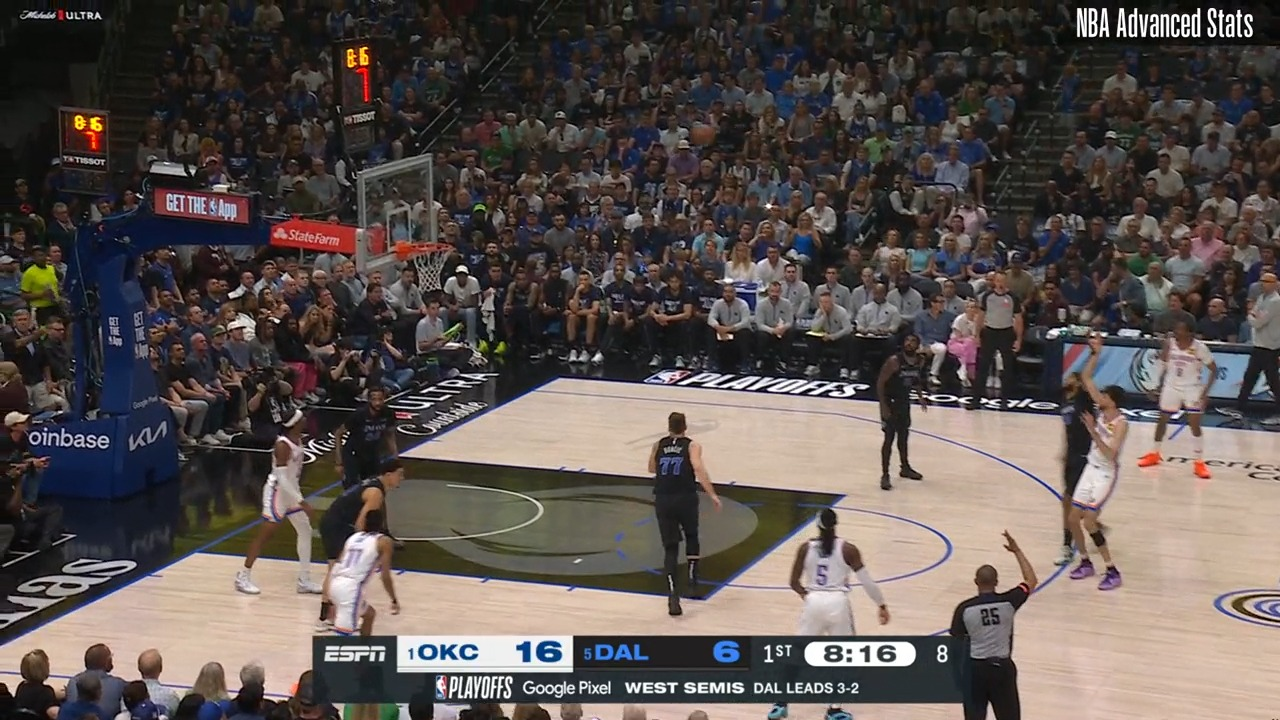basketball: (689, 121, 716, 148)
